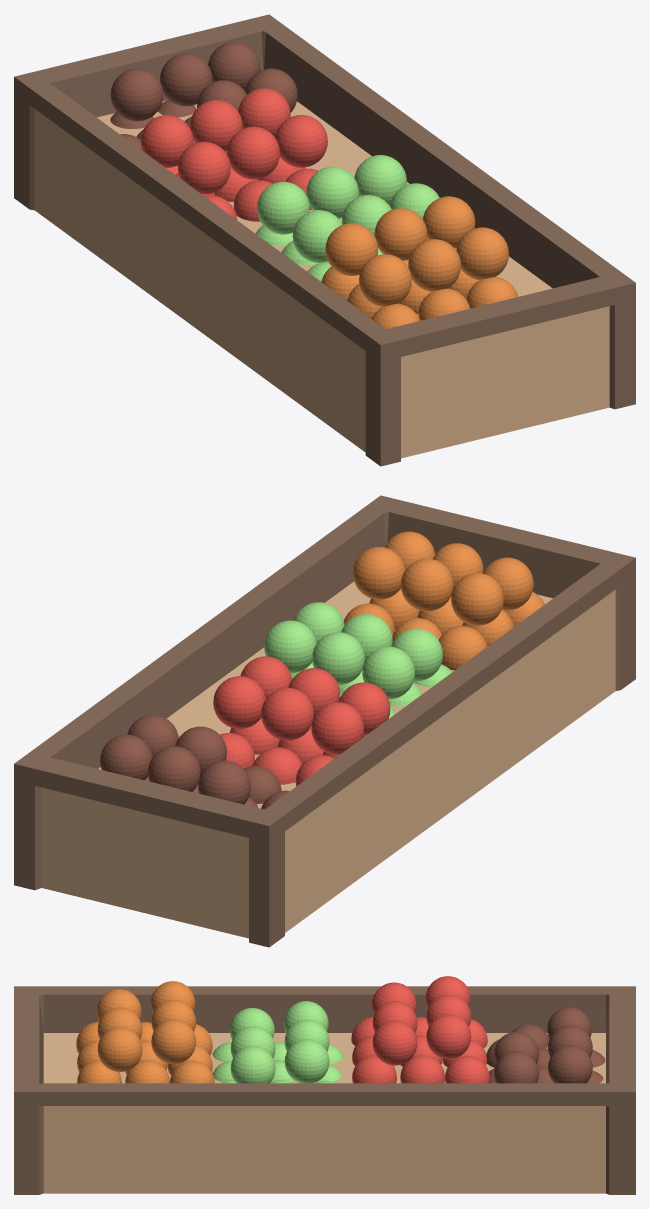
The model's file is ProduceBin.fbx.
3 views of the same model, one above another, from view 1: azimuth 30°, elevation 25°; view 2: azimuth 150°, elevation 25°; view 3: azimuth 270°, elevation 25° (orthographic). The views are drawn at different scales.
Visible parts, largest first — view 1: Cube, Sphere.057, Sphere.039, Sphere.006, Sphere.009, Sphere.040, Sphere.010, Sphere.036, Sphere.012, Sphere.027, Sphere.058, Sphere.013 (+17 smaller); view 2: Cube, Sphere.012, Sphere.013, Sphere.043, Sphere.044, Sphere.014, Sphere.042, Sphere.027, Sphere.028, Sphere.029, Sphere.058, Sphere.059 (+21 smaller); view 3: Cube, Sphere.040, Sphere.014, Sphere.044, Sphere.029, Sphere.010, Sphere.059, Sphere.025, Sphere.055, Sphere.035, Sphere.041, Sphere.034 (+30 smaller).
Part boxes in pixels (box(x1,y1,x2,y2)): Cube: box(14, 14, 635, 466); Sphere.057: box(110, 68, 163, 121); Sphere.039: box(227, 126, 279, 179); Sphere.006: box(359, 254, 411, 306); Sphere.009: box(408, 239, 460, 291); Sphere.040: box(275, 115, 327, 167); Sphere.010: box(456, 227, 508, 279); Sphere.036: box(178, 141, 230, 194); Sphere.012: box(325, 223, 378, 275); Sphere.027: box(257, 181, 309, 234); Sphere.058: box(160, 53, 212, 106); Sphere.013: box(374, 208, 427, 260); Cube: box(14, 495, 635, 947); Sphere.012: box(451, 573, 503, 625); Sphere.013: box(401, 558, 453, 611); Sphere.043: box(261, 687, 313, 740); Sphere.044: box(213, 676, 265, 728); Sphere.014: box(353, 547, 405, 599); Sphere.042: box(311, 702, 364, 754); Sphere.027: box(362, 646, 414, 699); Sphere.028: box(312, 632, 364, 684); Sphere.029: box(264, 620, 316, 673); Sphere.058: box(148, 746, 200, 791); Sphere.059: box(100, 734, 152, 780); Cube: box(14, 986, 635, 1194); Sphere.040: box(372, 1020, 417, 1065); Sphere.014: box(151, 1019, 196, 1064); Sphere.044: box(426, 1014, 471, 1059); Sphere.029: box(284, 1039, 329, 1083); Sphere.010: box(97, 1027, 142, 1071); Sphere.059: box(548, 1045, 592, 1083); Sphere.025: box(230, 1046, 275, 1083); Sphere.055: box(494, 1051, 538, 1083); Sphere.035: box(400, 1055, 444, 1083); Sphere.041: box(445, 1055, 489, 1083); Sphere.034: box(352, 1055, 396, 1083).
Size of the model in its own units: 440 by 262 by 1094.
